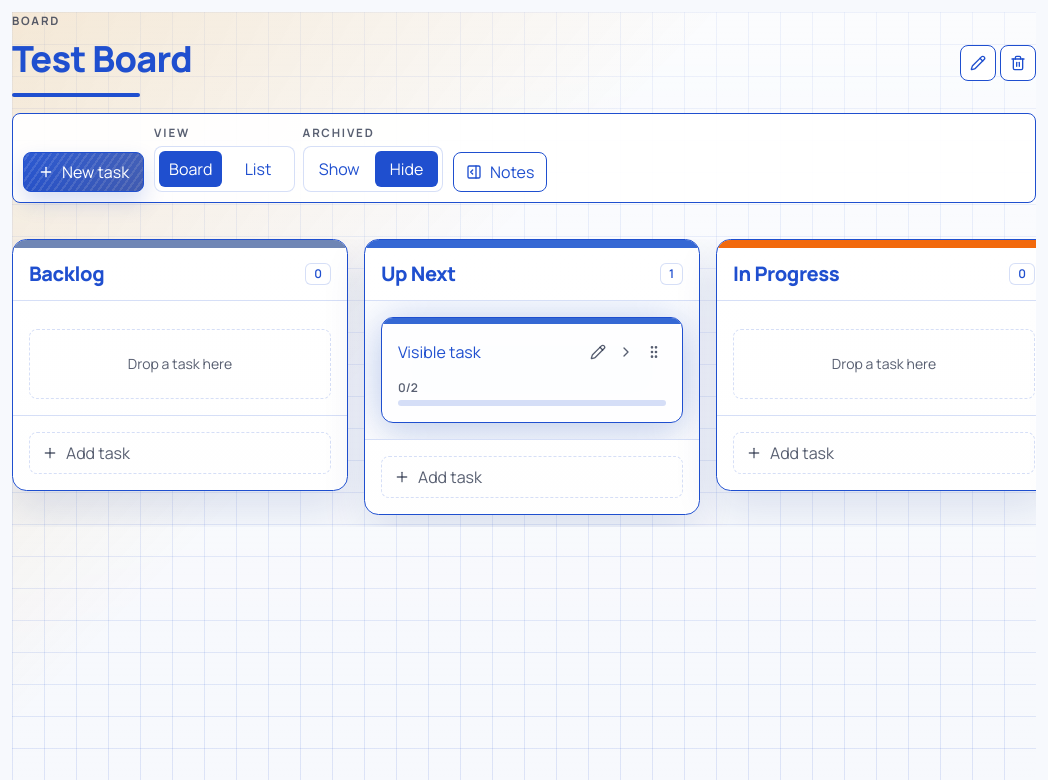
Test: BoardWorkspace subtask panel granular API › skips an unchanged subtask title and leaves the row available for reconciliation
Click the button named "Open subtasks menu": click(626, 352) [614,340,638,364]
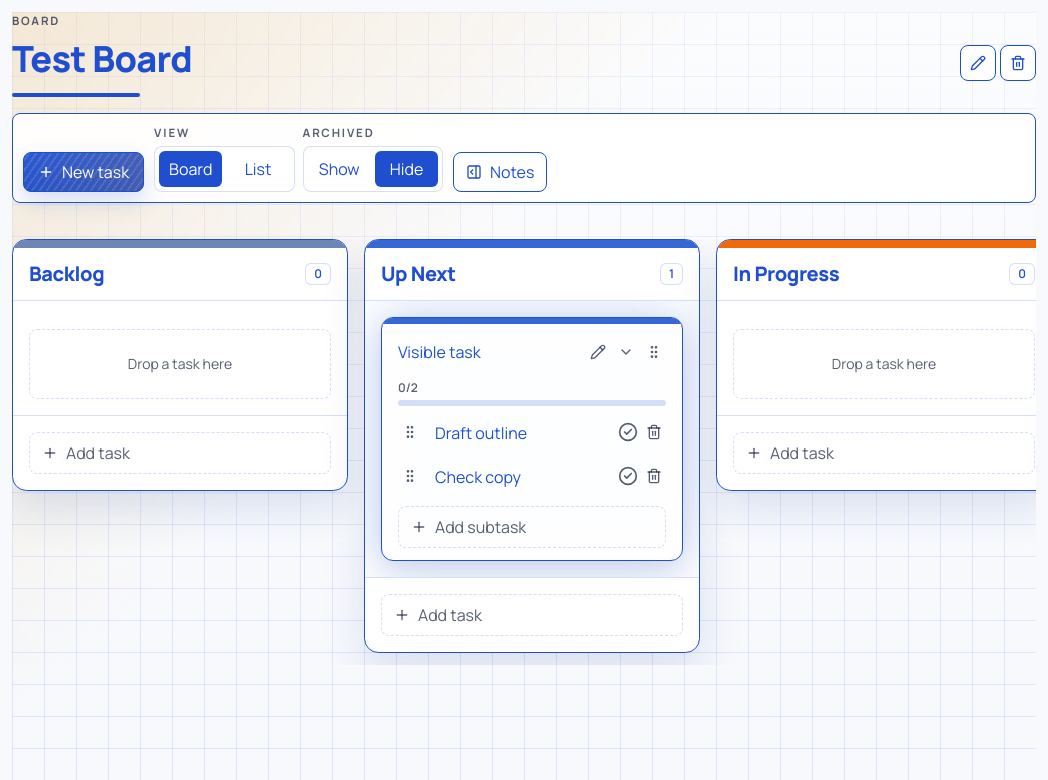
Press Enter in the 1st text box showing "Draft outline", box [426,416,610,448]
Click the 2nd button named "Mark subtask complete": click(628, 476) [618,466,638,486]
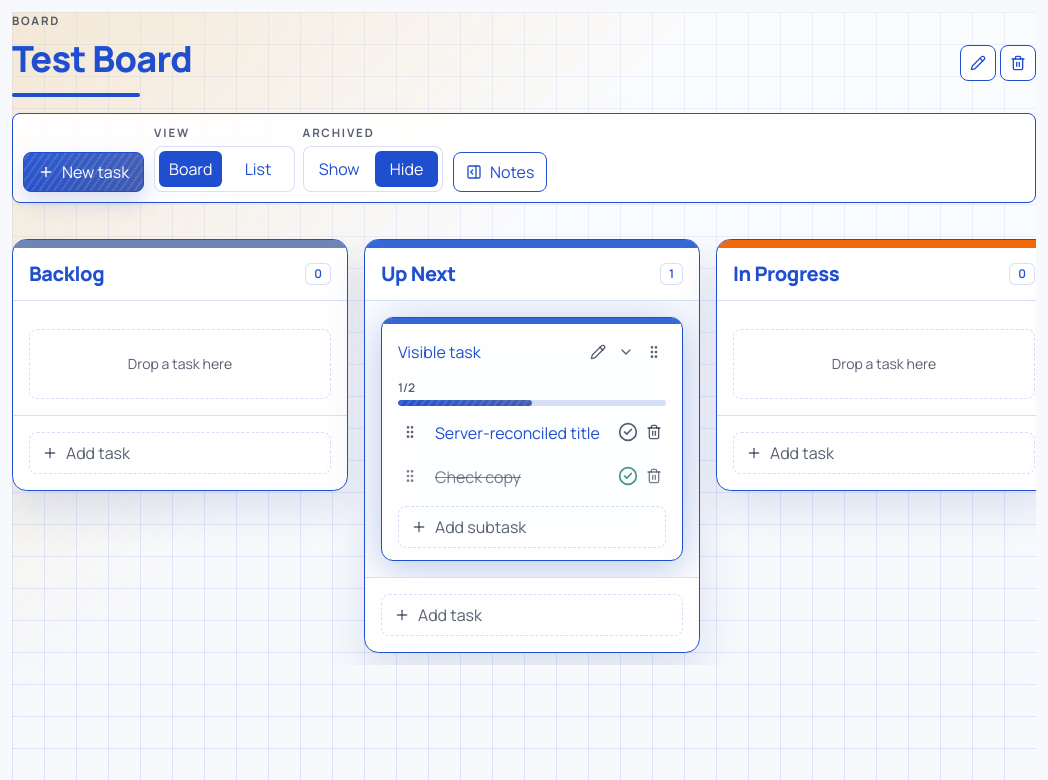
Check: the 1st text box showing "Server-reconciled title" is shown, box [426,416,610,448]
